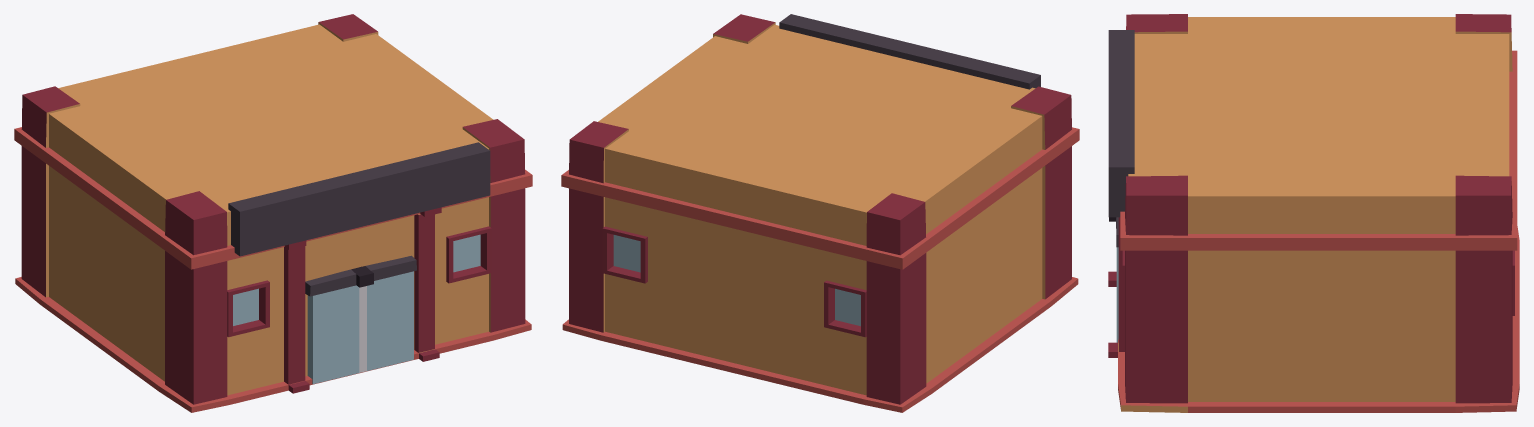
Rendered from supermarket_01.fbx.
3 views of the same model, side by side, from view 1: azimuth 30°, elevation 25°; view 2: azimuth 150°, elevation 25°; view 3: azimuth 270°, elevation 25° (orthographic). The views are drawn at different scales.
Parts seen in each view (by area): view 1: Plane, Tabela, Cube; view 2: Plane, Tabela; view 3: Plane, Tabela, Cube.
Boxes of the visible parts, bbox=[...] form: Plane: bbox=[14, 14, 532, 412]; Tabela: bbox=[228, 142, 490, 256]; Cube: bbox=[305, 255, 416, 384]; Plane: bbox=[561, 14, 1079, 412]; Tabela: bbox=[779, 14, 1040, 89]; Plane: bbox=[1108, 14, 1519, 412]; Tabela: bbox=[1108, 30, 1134, 217]; Cube: bbox=[1109, 217, 1118, 342].
Size of the model in its own units: 1617 by 872 by 1485.
3 materials, 3 textured.
